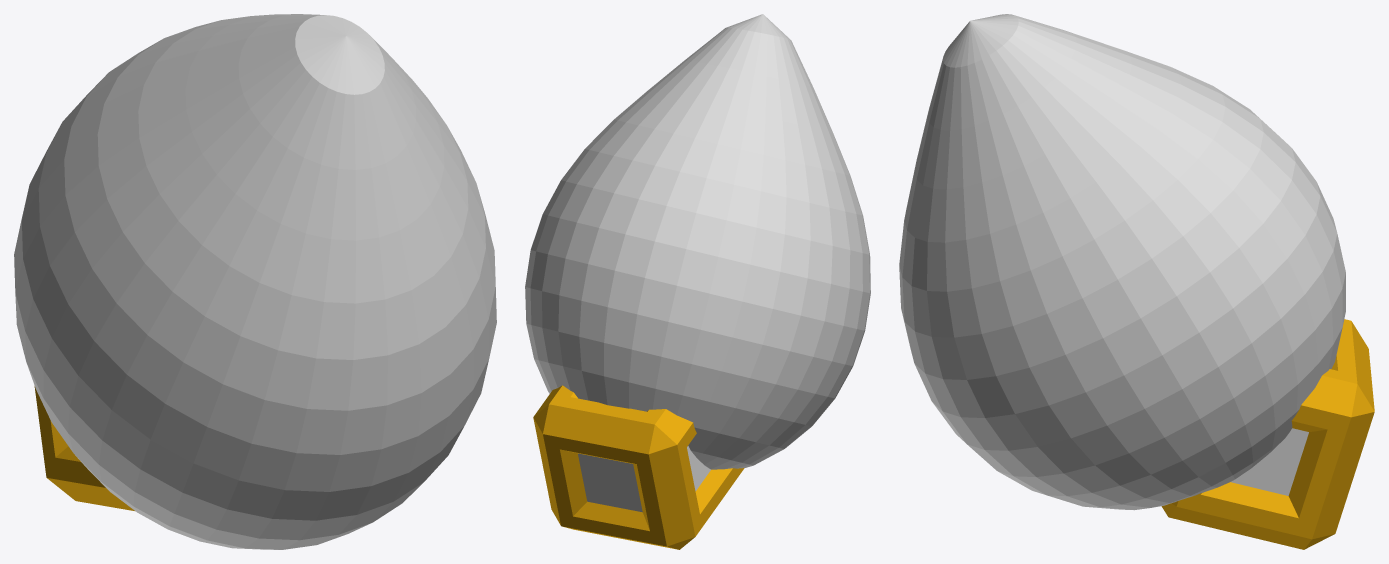
The model's file is FajroCore - Copy.fbx.
3 views of the same model, side by side, from view 1: azimuth 30°, elevation 25°; view 2: azimuth 150°, elevation 25°; view 3: azimuth 270°, elevation 25° (orthographic). The views are drawn at different scales.
Parts seen in each view (by area): view 1: Sphere, Cube; view 2: Sphere, Cube; view 3: Sphere, Cube.
Part boxes in pixels (x1=…): Sphere: x1=14, y1=14, x2=496, y2=549; Cube: x1=34, y1=386, x2=134, y2=510; Sphere: x1=525, y1=14, x2=870, y2=469; Cube: x1=533, y1=385, x2=744, y2=549; Sphere: x1=899, y1=14, x2=1345, y2=510; Cube: x1=1161, y1=319, x2=1374, y2=549.
Size of the model in its own units: 104 by 144 by 124.
